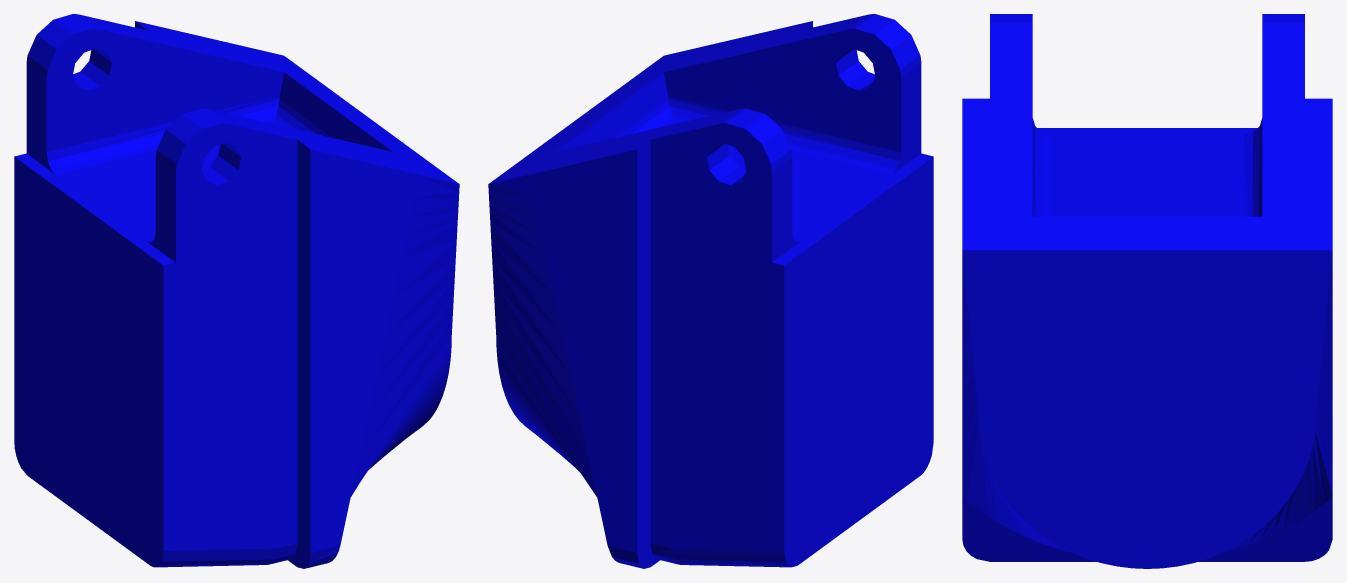
File: push_latch_button.obj
3 renders of one model, left to right at view 1: azimuth 30°, elevation 25°; view 2: azimuth 150°, elevation 25°; view 3: azimuth 270°, elevation 25°, orthographic. The views are drawn at different scales.
Bounding box in the file's own units: 0.0186 × 0.0291 × 0.02.
